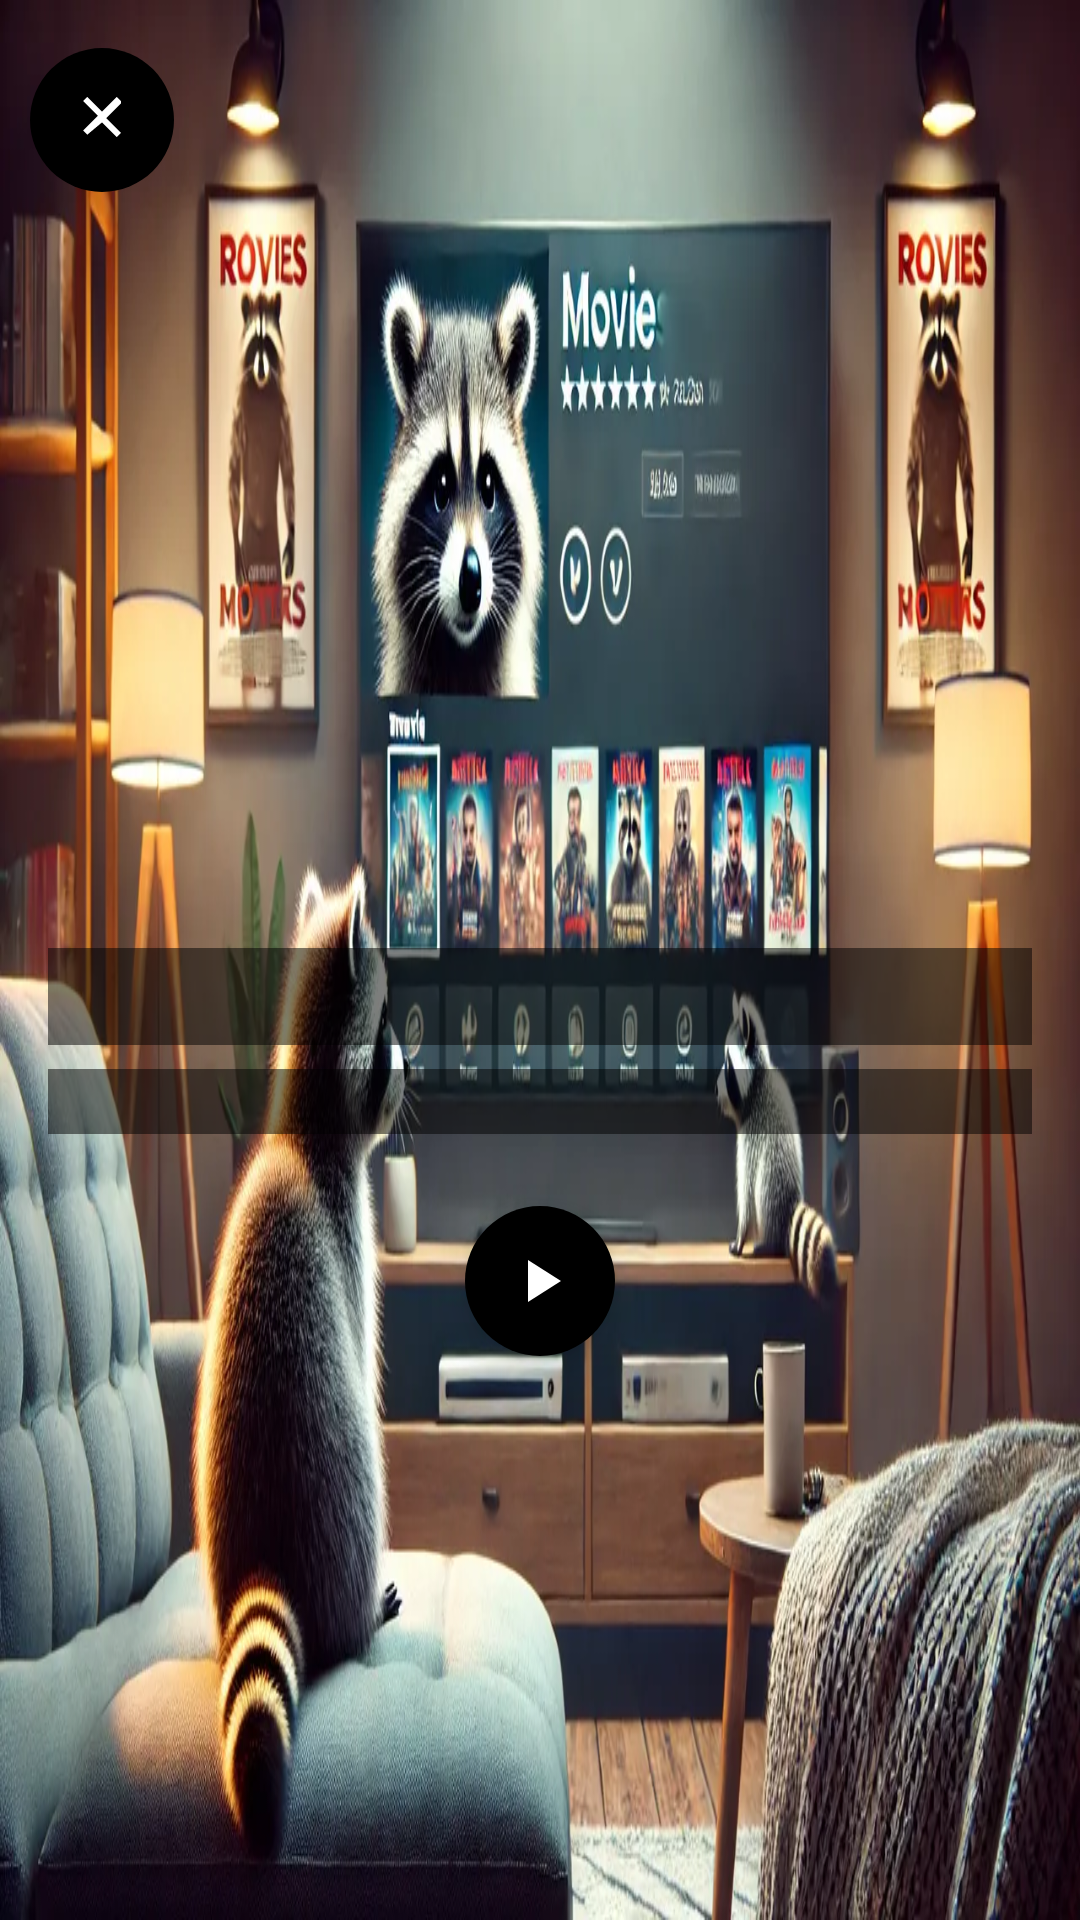

Icons on this 1080px×1920px Android screen, each with the point to tap as [x,y]:
Close details: [102,120]
play movie: [540,1281]
